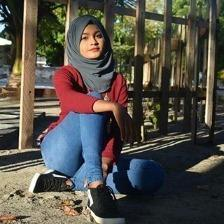Non Syar-i: (64, 12, 119, 93)
